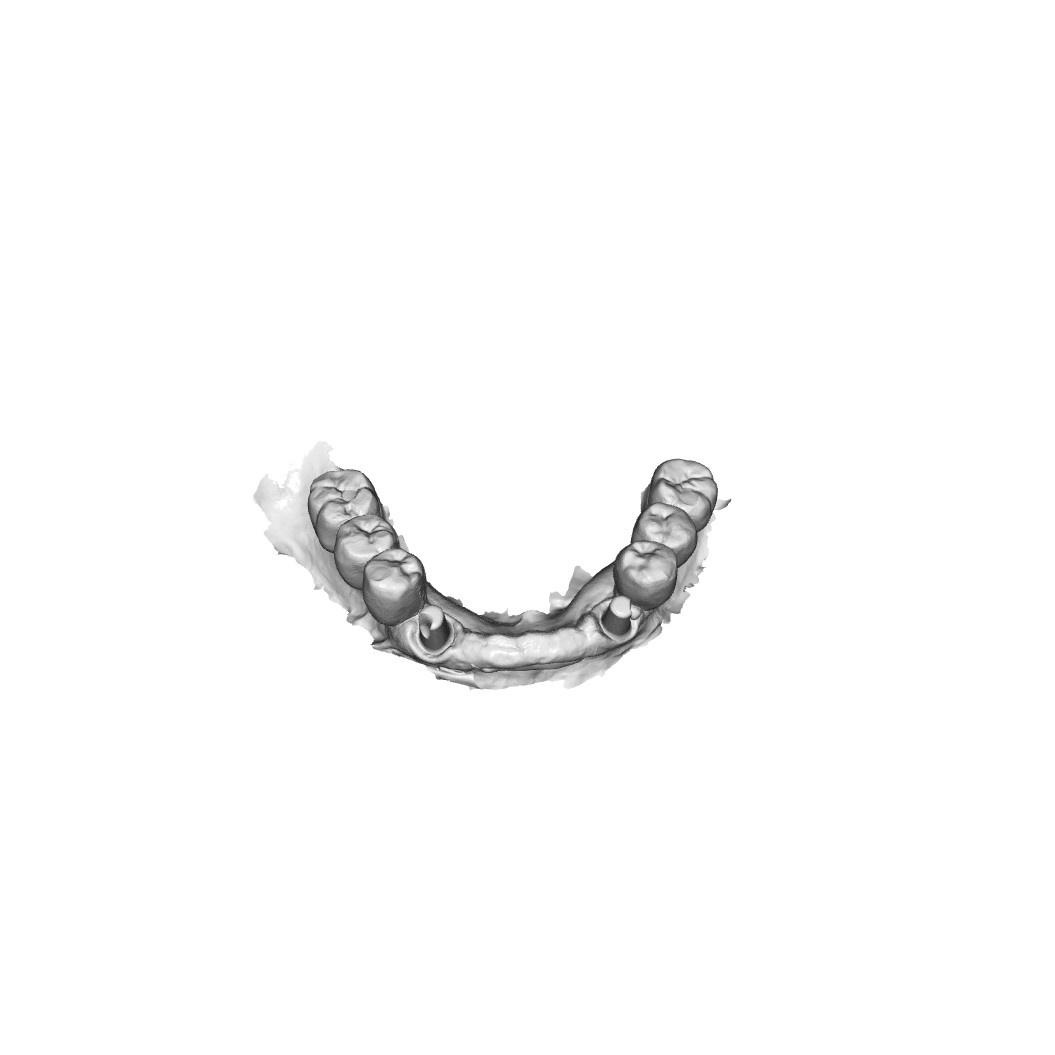abutment: (409, 602, 454, 660), (600, 594, 637, 644)
molar: (644, 456, 724, 521), (307, 466, 378, 537)
premolar: (331, 513, 394, 590), (612, 540, 682, 608), (361, 550, 420, 625), (638, 504, 698, 559)
